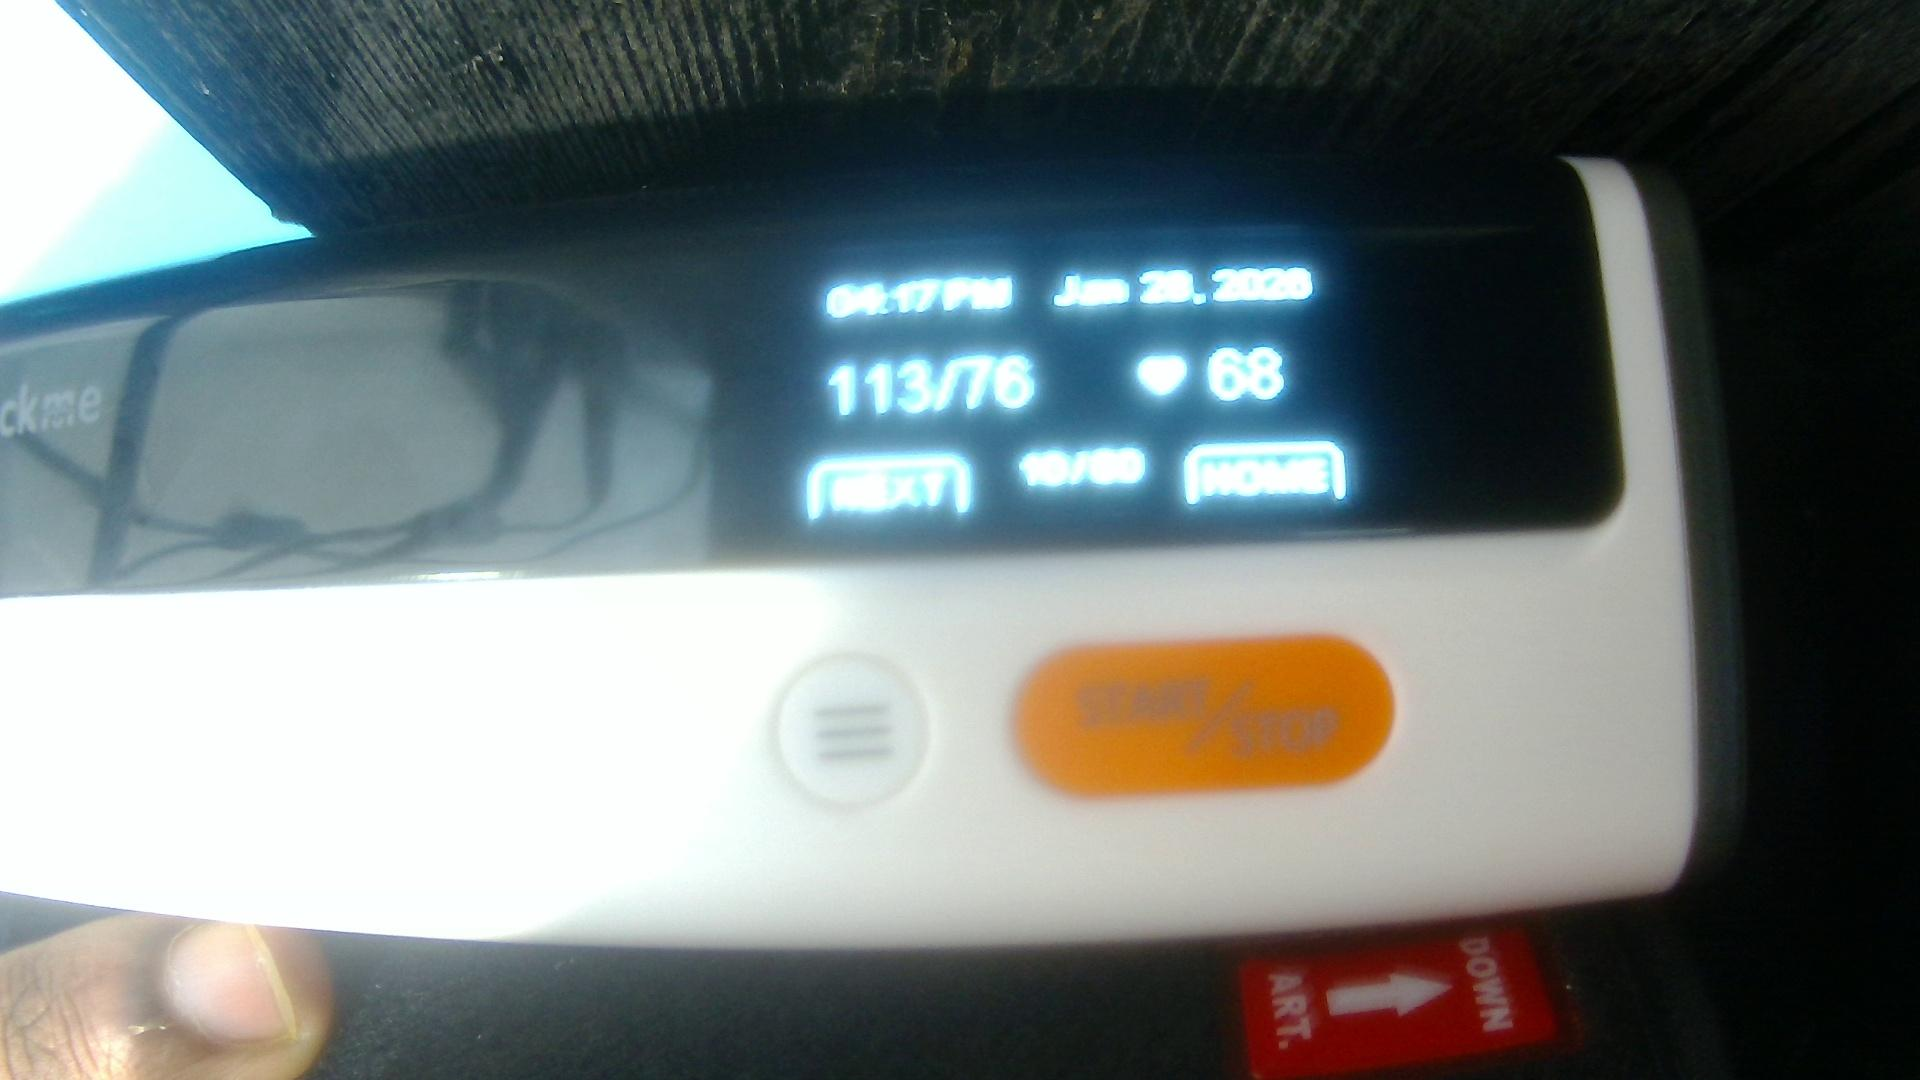DISPLAY: (12, 156, 1600, 583)
